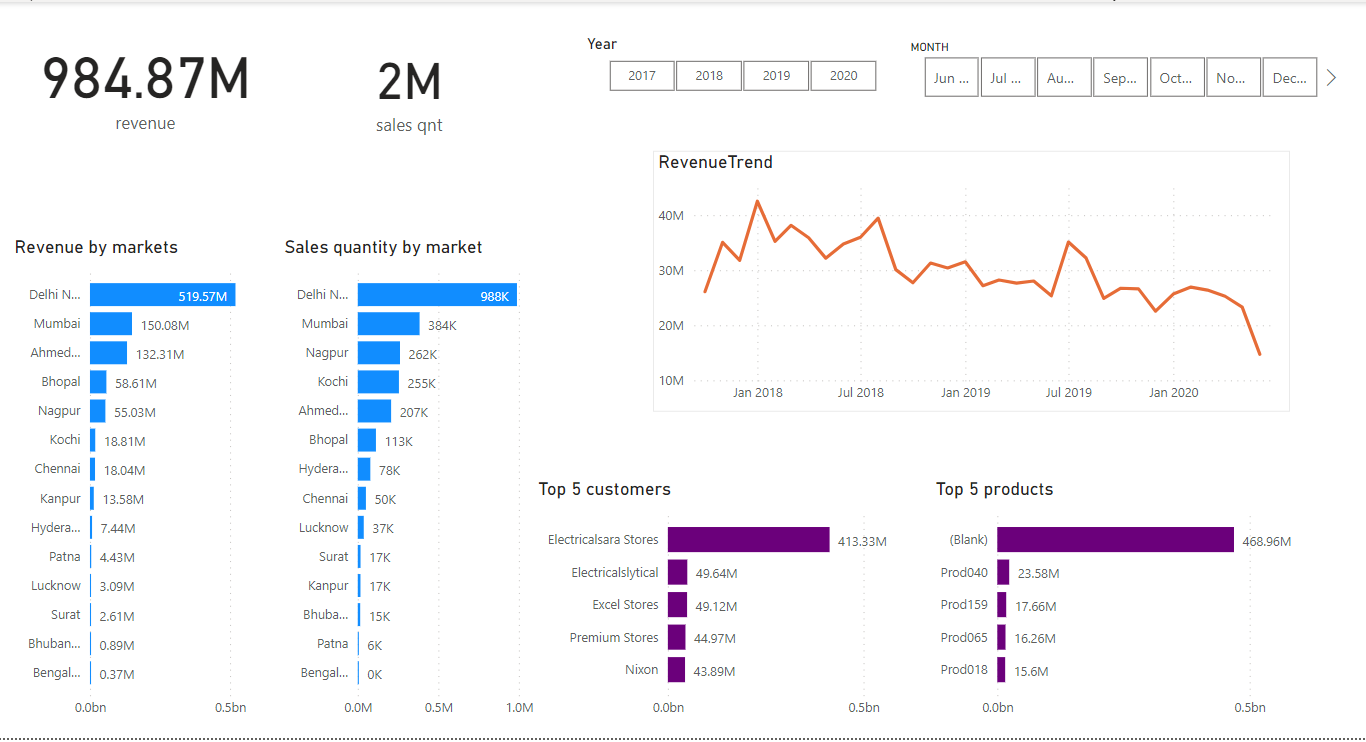

Layout of this report page (visuals, bound fields, positions):
{"tool":"powerbi","page":{"name":"Page 1","canvas":[1286,692],"ordinal":0},"visuals":[{"type":"card","fields":{"Values":["basemeasures.revenue"]},"box":[12.9,10.6,251.4,129.2],"z":0},{"type":"card","fields":{"Values":["basemeasures.sales qnt"]},"box":[290.2,0,192.7,159.8],"z":1000},{"type":"barChart","title":"Revenue by markets","fields":{"Y":["basemeasures.revenue"],"Category":["sales markets.markets_name"]},"box":[10.6,219.7,253.8,461.7],"z":2000},{"type":"barChart","title":"Sales quantity by market","fields":{"Y":["basemeasures.sales qnt"],"Category":["sales markets.markets_name"]},"box":[264.3,219.7,244.4,461.7],"z":3000},{"type":"slicer","fields":{"Values":["sales date.cy_date"]},"box":[844.7,30.5,419.4,65.8],"z":4000},{"type":"barChart","title":"Top 5 customers","fields":{"Category":["sales customers.custmer_name"],"Y":["basemeasures.revenue"]},"box":[502.8,447.6,367.7,233.8],"z":5000},{"type":"slicer","title":"Year","fields":{"Values":["sales date.year"]},"box":[548.7,30.5,300.8,59.9],"z":6000},{"type":"barChart","title":"Top 5 products","fields":{"Y":["basemeasures.revenue"],"Category":["sales products.product_code"]},"box":[876.5,447.6,367.7,233.8],"z":7000},{"type":"lineChart","title":"RevenueTrend","fields":{"Y":["basemeasures.revenue"],"Category":["sales date.cy_date.Variation.Date Hierarchy.Year","sales date.cy_date.Variation.Date Hierarchy.Quarter","sales date.cy_date.Variation.Date Hierarchy.Month","sales date.cy_date.Variation.Date Hierarchy.Day"]},"box":[615.6,139.8,599.2,245.5],"z":8000}]}

Visuals, with their boxes in screenshot pixels (x1, y1, x2, y2), scaled from the page's 1286x692 canvas onto the 1366x742 screenshot:
card - basemeasures.revenue: bbox=[14, 11, 281, 150]
card - basemeasures.sales qnt: bbox=[308, 0, 513, 171]
"Revenue by markets" barChart: bbox=[11, 236, 281, 731]
"Sales quantity by market" barChart: bbox=[281, 236, 540, 731]
slicer - sales date.cy_date: bbox=[897, 33, 1343, 103]
"Top 5 customers" barChart: bbox=[534, 480, 925, 731]
"Year" slicer: bbox=[583, 33, 902, 97]
"Top 5 products" barChart: bbox=[931, 480, 1322, 731]
"RevenueTrend" lineChart: bbox=[654, 150, 1290, 413]
